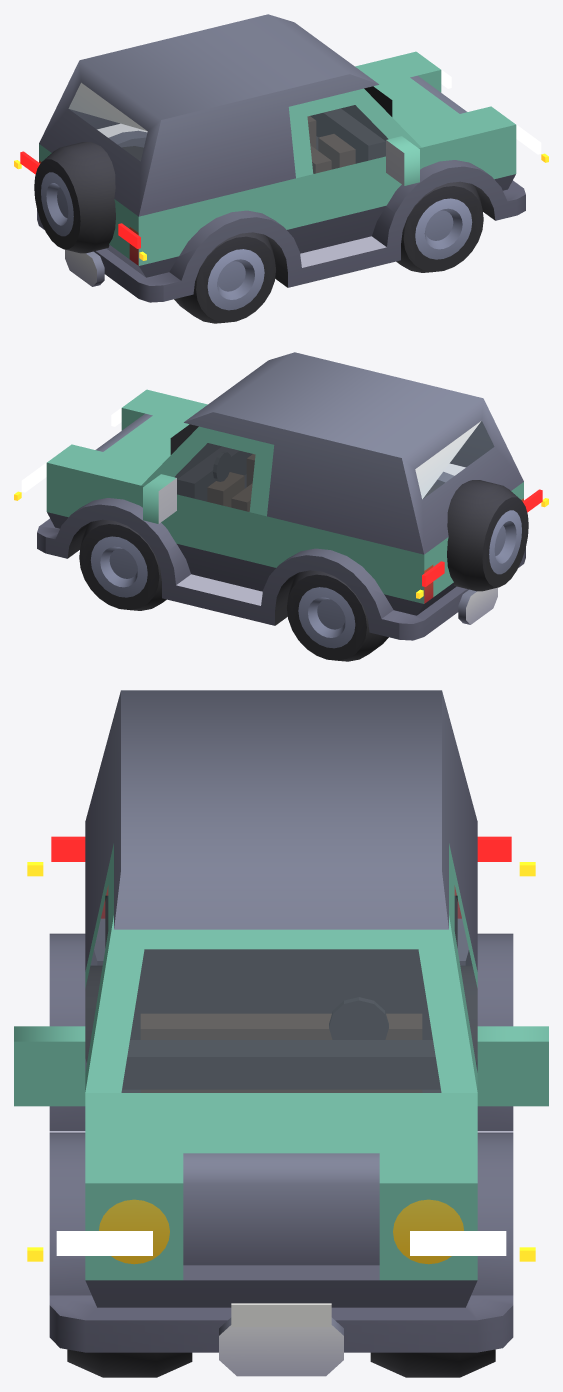
Rendered from veh_suv.glb.
3 views of the same model, one above another, from view 1: azimuth 30°, elevation 25°; view 2: azimuth 150°, elevation 25°; view 3: azimuth 270°, elevation 25° (orthographic). The views are drawn at different scales.
Visible parts, largest first — view 1: body, spare, wheel_rr, wheel_fr, interior_dash, interior, interior_seat_-1, light_tail, light_head, interior_bench; view 2: body, spare, wheel_rl, wheel_fl, interior_dash, interior, interior_seat_1, light_tail, light_head, interior_steer, interior_bench; view 3: body, interior, interior_dash, interior_bench, light_head, wheel_fl, wheel_fr, plate_front, interior_steer, light_tail.
Boxes of the visible parts, x1,y1,x2,y2 form: body: [37, 14, 525, 302]; spare: [34, 142, 115, 253]; wheel_rr: [174, 232, 275, 323]; wheel_fr: [396, 181, 483, 272]; interior_dash: [310, 108, 385, 160]; interior: [316, 86, 392, 163]; interior_seat_-1: [318, 134, 355, 169]; light_tail: [20, 151, 140, 248]; light_head: [427, 59, 541, 154]; interior_bench: [310, 145, 331, 173]; body: [37, 352, 525, 640]; spare: [447, 480, 528, 591]; wheel_rl: [287, 570, 388, 661]; wheel_fl: [79, 519, 166, 610]; interior_dash: [177, 446, 252, 498]; interior: [170, 424, 246, 501]; interior_seat_1: [207, 472, 244, 507]; light_tail: [422, 489, 542, 586]; light_head: [21, 397, 135, 492]; interior_steer: [213, 451, 231, 481]; interior_bench: [231, 483, 252, 511]; body: [14, 690, 548, 1376]; interior: [105, 895, 457, 1092]; interior_dash: [123, 1040, 439, 1089]; interior_bench: [140, 1013, 422, 1092]; light_head: [56, 1231, 506, 1255]; wheel_fl: [370, 1349, 495, 1377]; wheel_fr: [67, 1349, 192, 1377]; plate_front: [231, 1303, 331, 1326]; interior_steer: [329, 997, 388, 1039]; light_tail: [51, 836, 511, 861].
Bounding box in the file's own units: 4.83 × 2.31 × 2.67.
9 materials, 1 textured.
